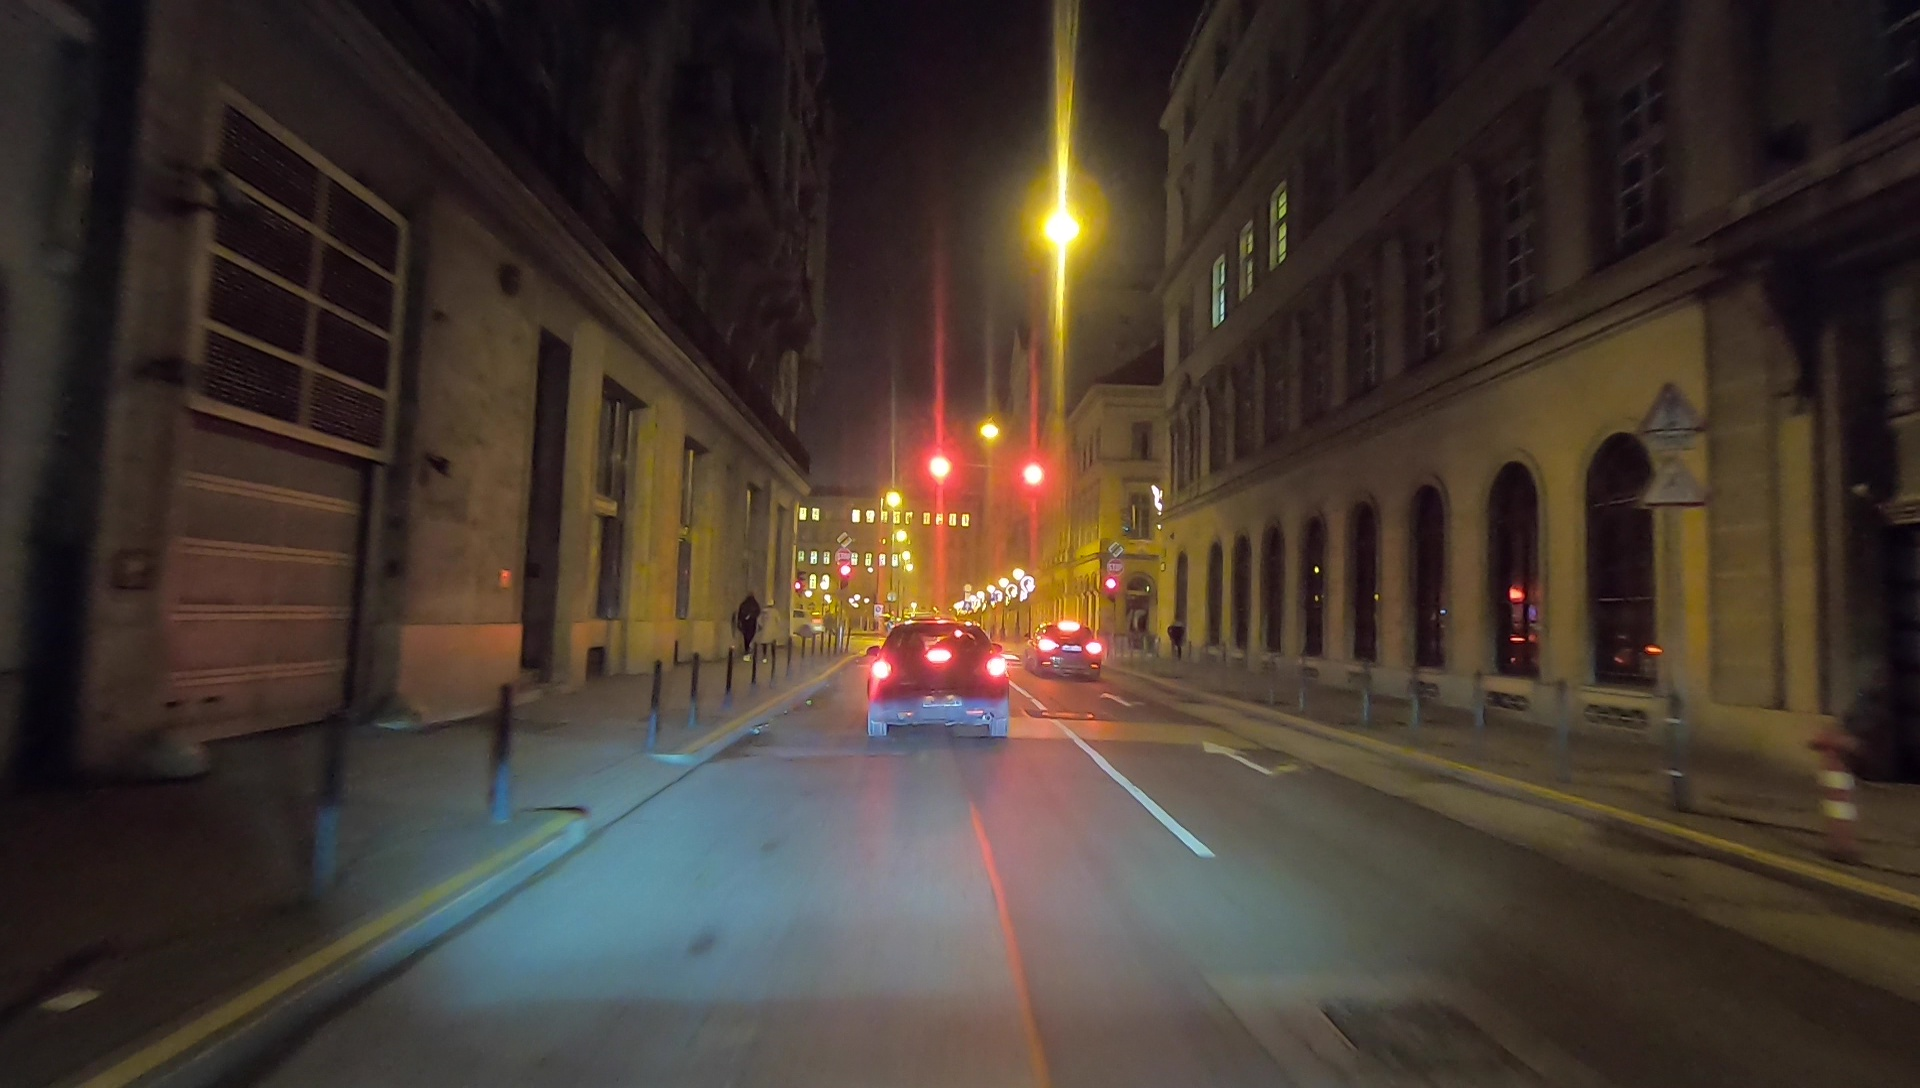person: (732, 591, 758, 652), (1165, 615, 1188, 661)
